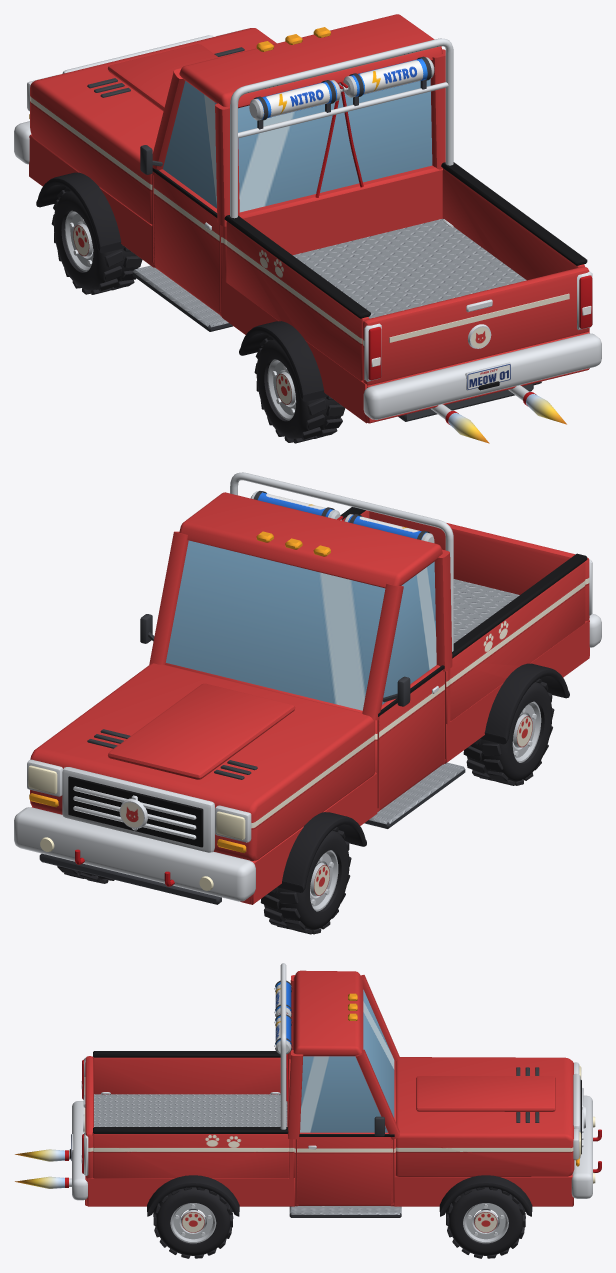
Rendered from pickup.fbx.
3 views of the same model, one above another, from view 1: azimuth 30°, elevation 25°; view 2: azimuth 150°, elevation 25°; view 3: azimuth 270°, elevation 25° (orthographic). The views are drawn at different scales.
Parts seen in each view (by area): view 1: Body, Windows, NitroKit, WheelRL, WheelFL, NitroFlames; view 2: Body, Windows, WheelFL, WheelRL, NitroKit; view 3: Body, Windows, WheelRR, WheelFR, NitroKit, NitroFlames.
Part boxes in pixels (left/top/right/bottom): Body: left=14, top=14, right=601, bottom=423; Windows: left=163, top=78, right=432, bottom=212; NitroKit: left=230, top=38, right=536, bottom=425; WheelRL: left=254, top=336, right=345, bottom=443; WheelFL: left=51, top=187, right=142, bottom=294; NitroFlames: left=448, top=394, right=566, bottom=443; Body: left=14, top=492, right=601, bottom=904; Windows: left=166, top=540, right=436, bottom=710; WheelFL: left=260, top=827, right=351, bottom=934; WheelRL: left=463, top=678, right=554, bottom=785; NitroKit: left=230, top=472, right=453, bottom=651; Body: left=69, top=970, right=601, bottom=1217; Windows: left=300, top=989, right=394, bottom=1132; WheelRR: left=153, top=1187, right=233, bottom=1258; WheelFR: left=446, top=1187, right=525, bottom=1258; NitroKit: left=65, top=963, right=292, bottom=1187; NitroFlames: left=15, top=1149, right=64, bottom=1188.
Size of the model in its own units: 6.54 by 7.06 by 17.28.
Materials: 1 (1 with a texture image).
